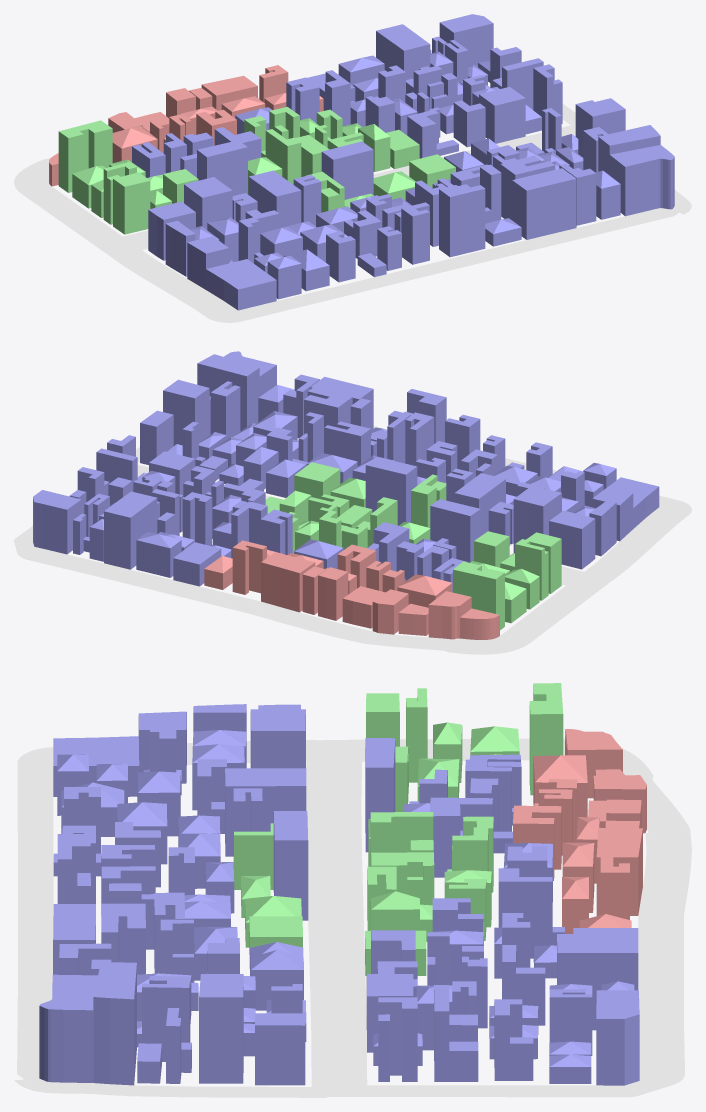
Rendered from GameMap_0.fbx.
The picture shows the model from 3 angles, top to bottom: view 1: azimuth 30°, elevation 25°; view 2: azimuth 150°, elevation 25°; view 3: azimuth 270°, elevation 25°; orthographic projection. The views are drawn at different scales.
Visible parts, largest first — view 1: CityEngineMaterial_m, CityEngineMaterial_1_m, CityEngineShapeMaterial_m, CityEngineMaterial_2_m; view 2: CityEngineMaterial_m, CityEngineMaterial_2_m, CityEngineMaterial_1_m, CityEngineShapeMaterial_m; view 3: CityEngineMaterial_m, CityEngineShapeMaterial_m, CityEngineMaterial_1_m, CityEngineMaterial_2_m.
Part boxes in pixels (left/top/right/bottom): CityEngineMaterial_m: left=132, top=14, right=674, bottom=310; CityEngineMaterial_1_m: left=58, top=107, right=455, bottom=234; CityEngineShapeMaterial_m: left=14, top=97, right=691, bottom=322; CityEngineMaterial_2_m: left=49, top=65, right=323, bottom=186; CityEngineMaterial_m: left=33, top=351, right=659, bottom=592; CityEngineMaterial_2_m: left=204, top=540, right=499, bottom=639; CityEngineMaterial_1_m: left=265, top=462, right=561, bottom=630; CityEngineShapeMaterial_m: left=14, top=426, right=691, bottom=654; CityEngineMaterial_m: left=39, top=704, right=639, bottom=1085; CityEngineShapeMaterial_m: left=14, top=738, right=691, bottom=1097; CityEngineMaterial_1_m: left=234, top=683, right=563, bottom=975; CityEngineMaterial_2_m: left=513, top=729, right=646, bottom=933.
Size of the model in its own units: 477 by 54.97 by 381.
